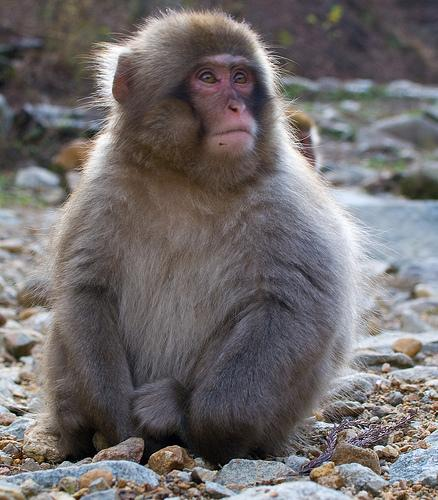monkey: (24, 10, 370, 472)
